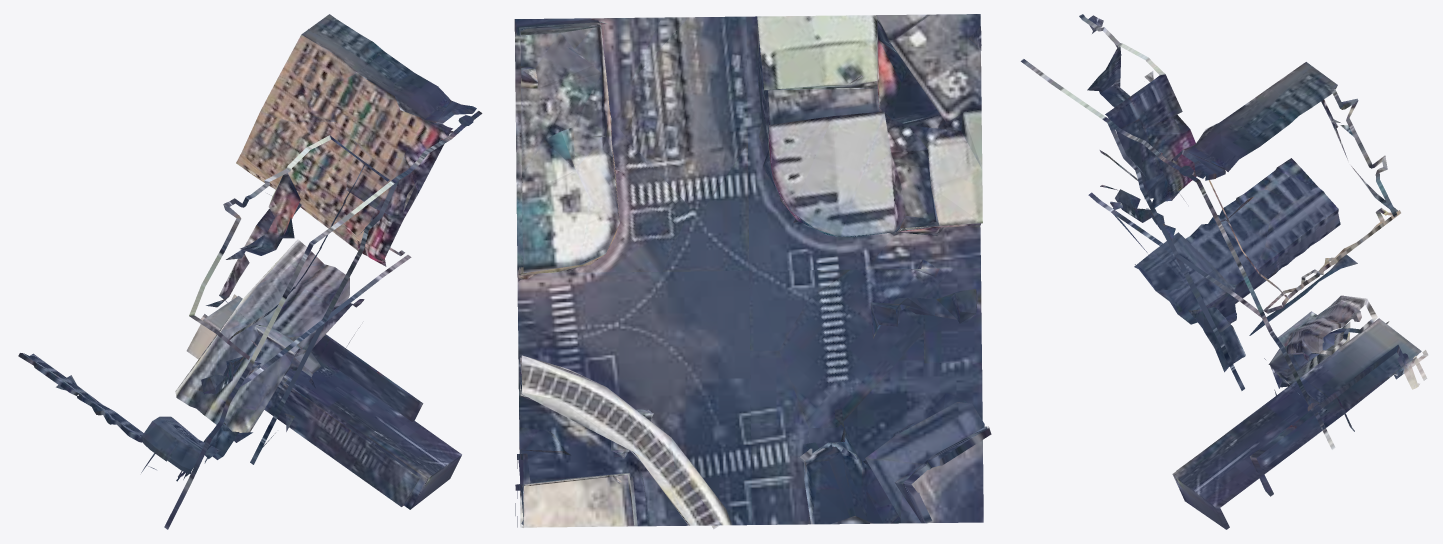
3 views of the same model, side by side, from view 1: azimuth 30°, elevation 25°; view 2: azimuth 150°, elevation 25°; view 3: azimuth 270°, elevation 25° (orthographic). The views are drawn at different scales.
Bounding box in the file's own units: 93.78 × 95.02 × 83.98.
Materials: 1 (1 with a texture image).
